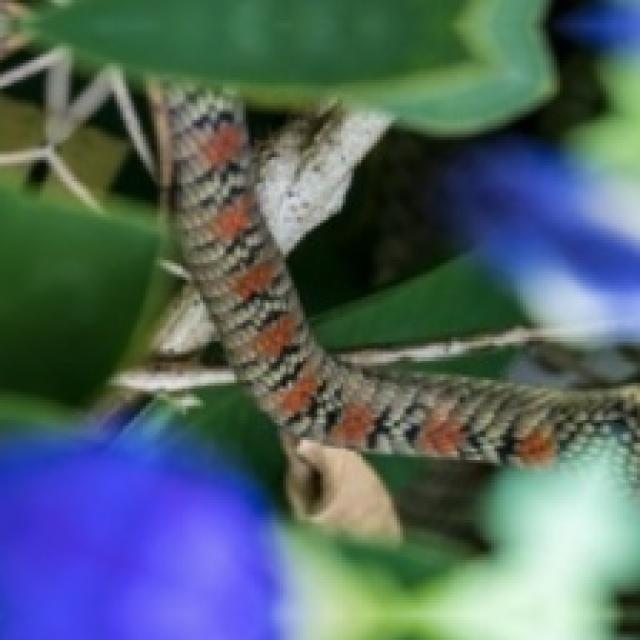paradise tree snake: (157, 86, 637, 537), (157, 86, 637, 534)
